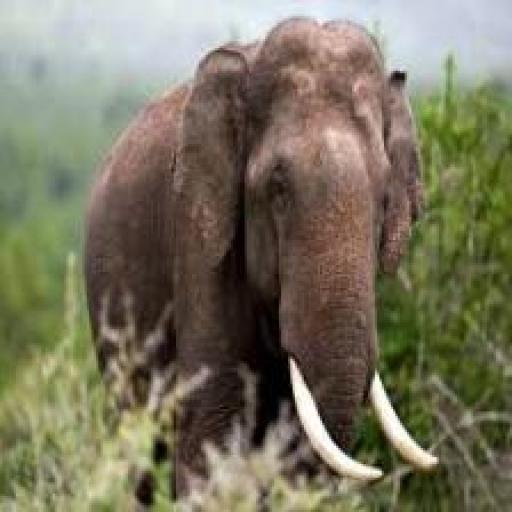Elephant: (48, 14, 449, 494)
